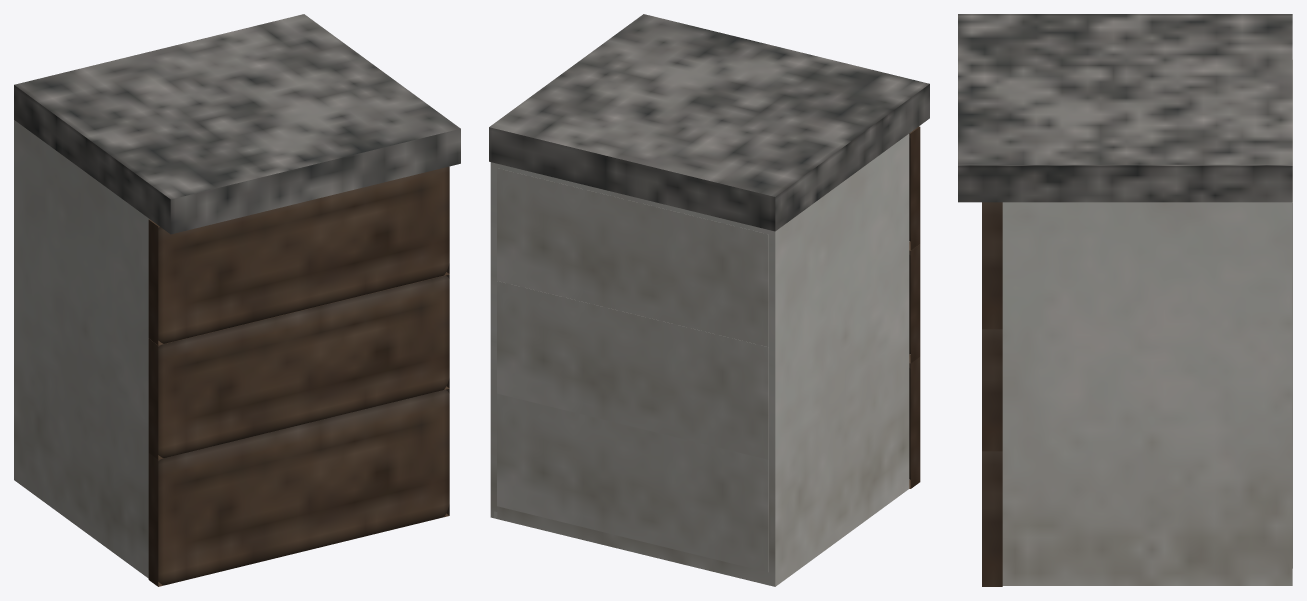
The model's file is SM_EC_House_Kitchen_Worktop_Complete03.fbx.
3 views of the same model, side by side, from view 1: azimuth 30°, elevation 25°; view 2: azimuth 150°, elevation 25°; view 3: azimuth 270°, elevation 25° (orthographic). The views are drawn at different scales.
Parts seen in each view (by area): view 1: SM_EC_House_Kitchen_Worktop_Complete03, SM_EC_FridgeFreezer_Complete_0.025, SM_EC_FridgeFreezer_Complete_0.027, SM_EC_FridgeFreezer_Complete_0.028; view 2: SM_EC_House_Kitchen_Worktop_Complete03, SM_EC_FridgeFreezer_Complete_0.025, SM_EC_FridgeFreezer_Complete_0.028, SM_EC_FridgeFreezer_Complete_0.027; view 3: SM_EC_House_Kitchen_Worktop_Complete03, SM_EC_FridgeFreezer_Complete_0.025, SM_EC_FridgeFreezer_Complete_0.028, SM_EC_FridgeFreezer_Complete_0.027.
Part boxes in pixels (bbox=[...]): SM_EC_House_Kitchen_Worktop_Complete03: bbox=[14, 14, 460, 578]; SM_EC_FridgeFreezer_Complete_0.025: bbox=[148, 386, 449, 586]; SM_EC_FridgeFreezer_Complete_0.027: bbox=[148, 274, 449, 459]; SM_EC_FridgeFreezer_Complete_0.028: bbox=[148, 166, 449, 345]; SM_EC_House_Kitchen_Worktop_Complete03: bbox=[489, 14, 929, 586]; SM_EC_FridgeFreezer_Complete_0.025: bbox=[497, 354, 920, 572]; SM_EC_FridgeFreezer_Complete_0.028: bbox=[497, 126, 920, 346]; SM_EC_FridgeFreezer_Complete_0.027: bbox=[497, 244, 920, 459]; SM_EC_House_Kitchen_Worktop_Complete03: bbox=[958, 14, 1292, 585]; SM_EC_FridgeFreezer_Complete_0.025: bbox=[982, 447, 1292, 586]; SM_EC_FridgeFreezer_Complete_0.028: bbox=[982, 60, 1292, 329]; SM_EC_FridgeFreezer_Complete_0.027: bbox=[982, 325, 1292, 451].
Size of the model in its own units: 0.8719 by 0.8125 by 1.13.
